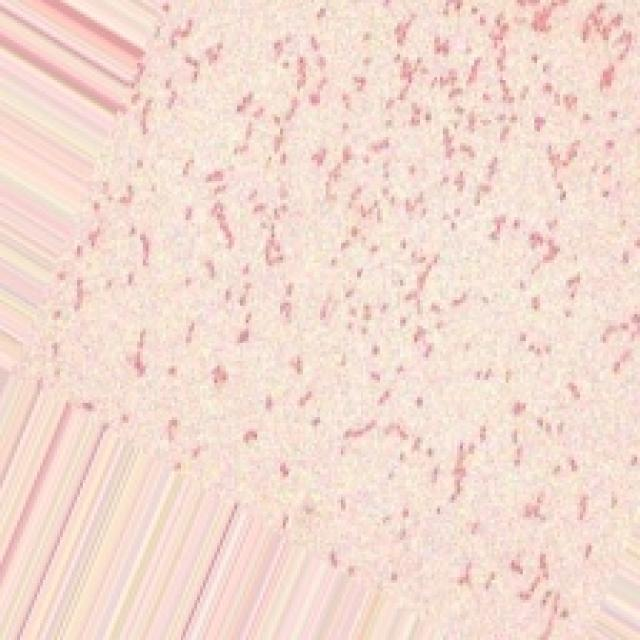Spiral_bacteria: (17, 0, 637, 637)
